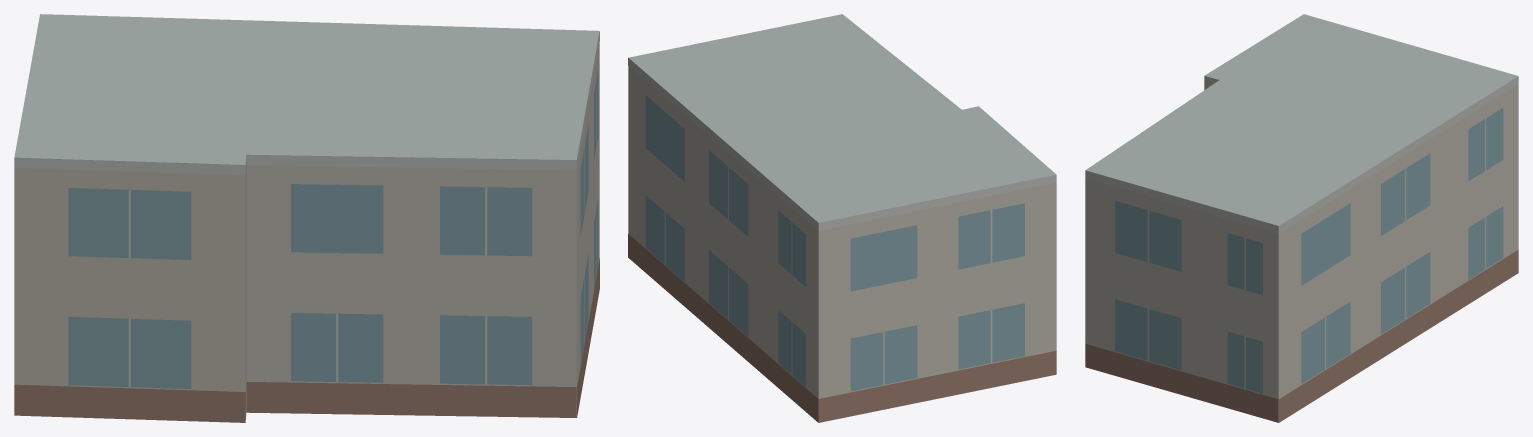
The model's file is survey-upis-32913841.glb.
3 views of the same model, side by side, from view 1: azimuth 30°, elevation 25°; view 2: azimuth 150°, elevation 25°; view 3: azimuth 270°, elevation 25° (orthographic). The views are drawn at different scales.
Parts seen in each view (by area): view 1: survey-upis-32913841.tmp; view 2: survey-upis-32913841.tmp; view 3: survey-upis-32913841.tmp.
Part boxes in pixels (<box>): survey-upis-32913841.tmp: <box>14,14,599,422</box>; survey-upis-32913841.tmp: <box>628,14,1056,422</box>; survey-upis-32913841.tmp: <box>1085,14,1518,422</box>.
Size of the model in its own units: 14.09 by 6.1 by 12.18.
